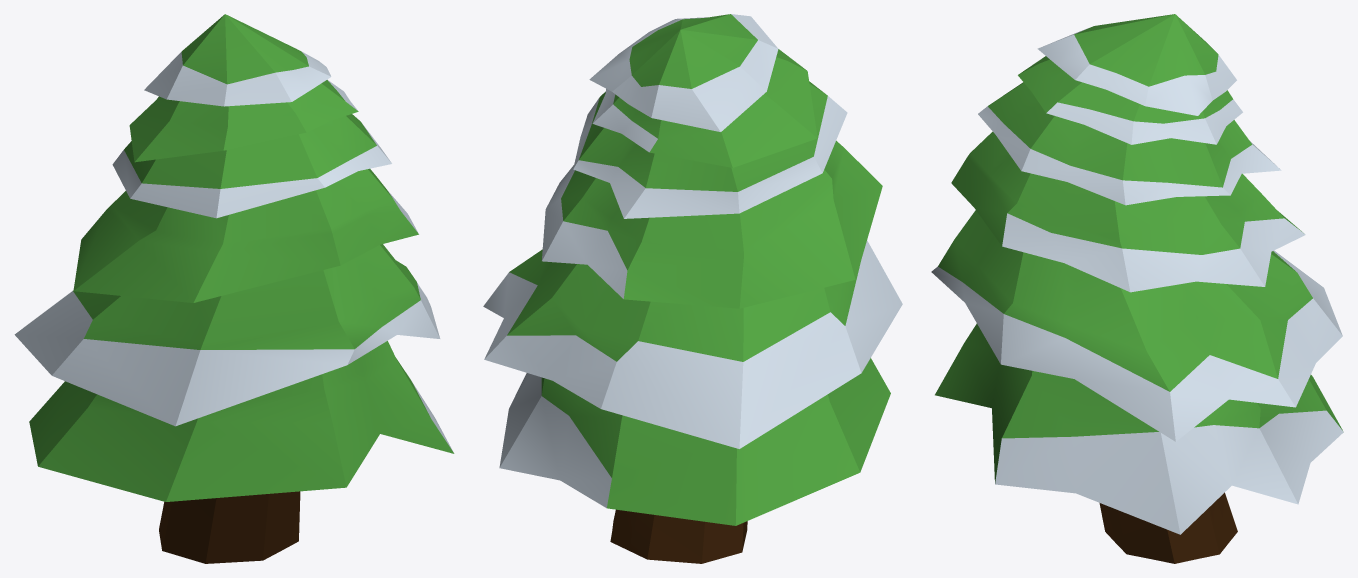
File: snow_tree2.fbx
3 renders of one model, left to right at view 1: azimuth 30°, elevation 25°; view 2: azimuth 150°, elevation 25°; view 3: azimuth 270°, elevation 25°, orthographic. The views are drawn at different scales.
Parts seen in each view (by area): view 1: FirTreeSnow2; view 2: FirTreeSnow2; view 3: FirTreeSnow2.
Part boxes in pixels (<box>): FirTreeSnow2: <box>14,14,454,563</box>; FirTreeSnow2: <box>483,14,902,563</box>; FirTreeSnow2: <box>931,14,1343,563</box>.
Bounding box in the file's own units: 3.42 × 4.38 × 3.18.
